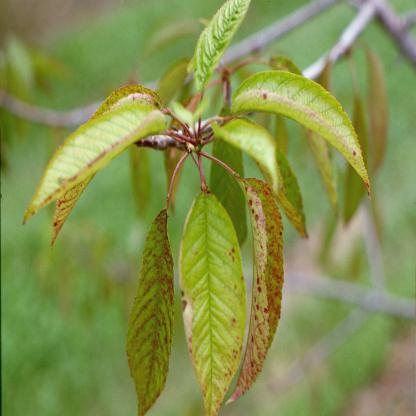cherry leaf: (18, 67, 170, 258), (226, 54, 380, 203), (174, 182, 249, 416), (232, 168, 291, 416), (121, 199, 180, 416)
